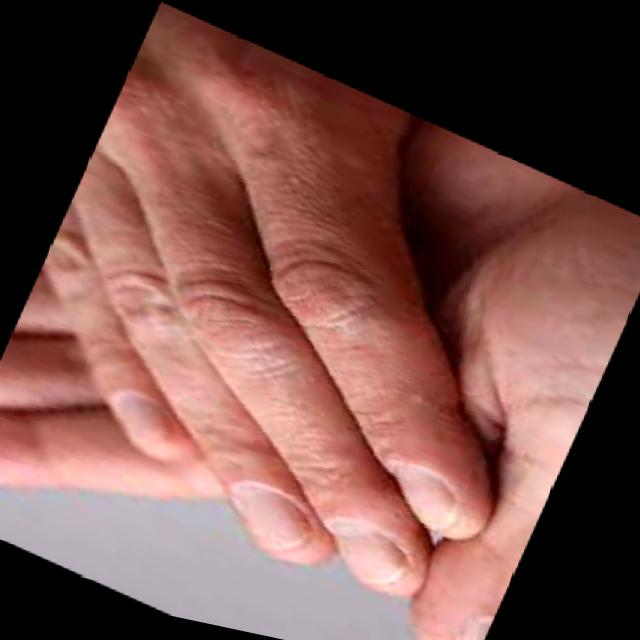Nail: (243, 490, 311, 551), (394, 466, 457, 529), (339, 528, 404, 585), (105, 387, 164, 446)
